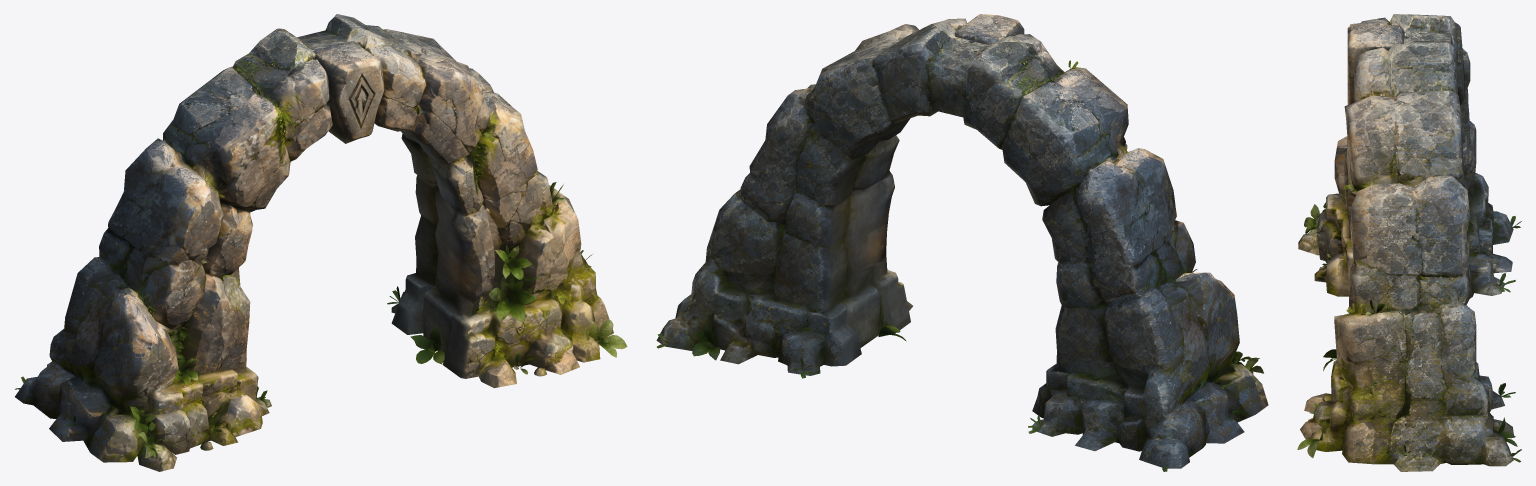
Rendered from stone+arch+3d+model.fbx.
3 renders of one model, left to right at view 1: azimuth 30°, elevation 25°; view 2: azimuth 150°, elevation 25°; view 3: azimuth 270°, elevation 25°, orthographic. The views are drawn at different scales.
Visible parts, largest first — view 1: d520c8d3_742f_42f3_a0f0_d86235decc1e; view 2: d520c8d3_742f_42f3_a0f0_d86235decc1e; view 3: d520c8d3_742f_42f3_a0f0_d86235decc1e.
Boxes of the visible parts, x1,y1,x2,y2 form: d520c8d3_742f_42f3_a0f0_d86235decc1e: (15, 14, 627, 471); d520c8d3_742f_42f3_a0f0_d86235decc1e: (656, 14, 1268, 471); d520c8d3_742f_42f3_a0f0_d86235decc1e: (1297, 14, 1521, 471).
Size of the model in its own units: 0.9995 by 0.5981 by 0.3794.
